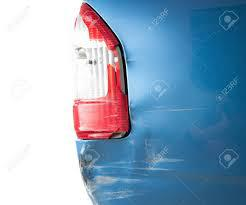Taillight-Damage: (60, 0, 135, 149)
rear-bumper-dent: (53, 120, 246, 204)
